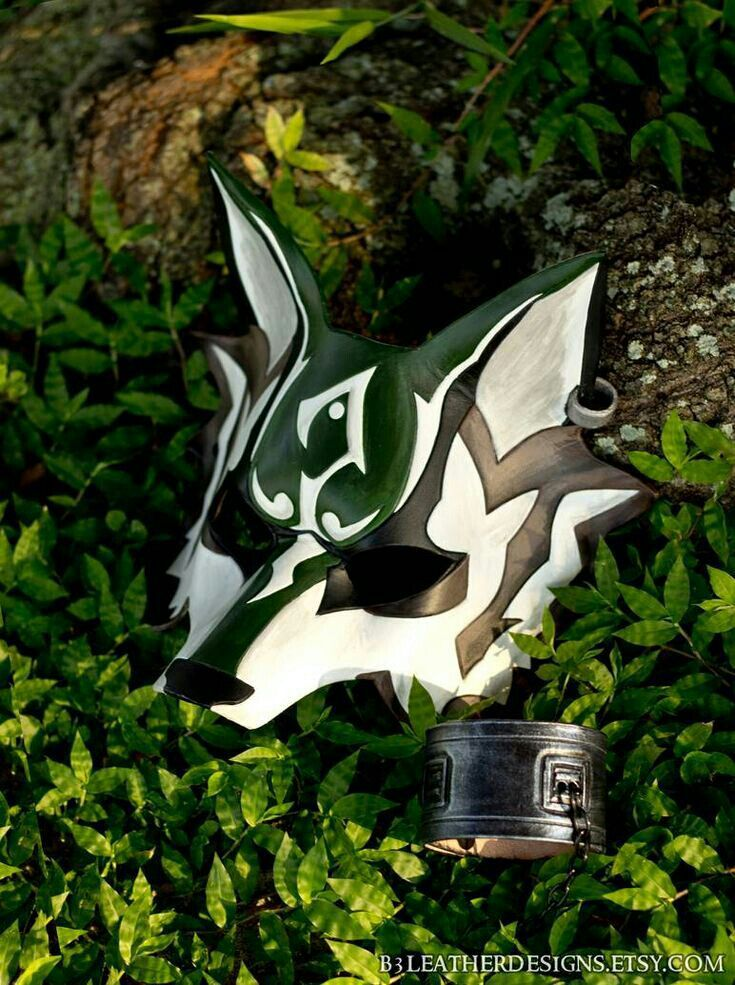cuero: (419, 722, 611, 855)
